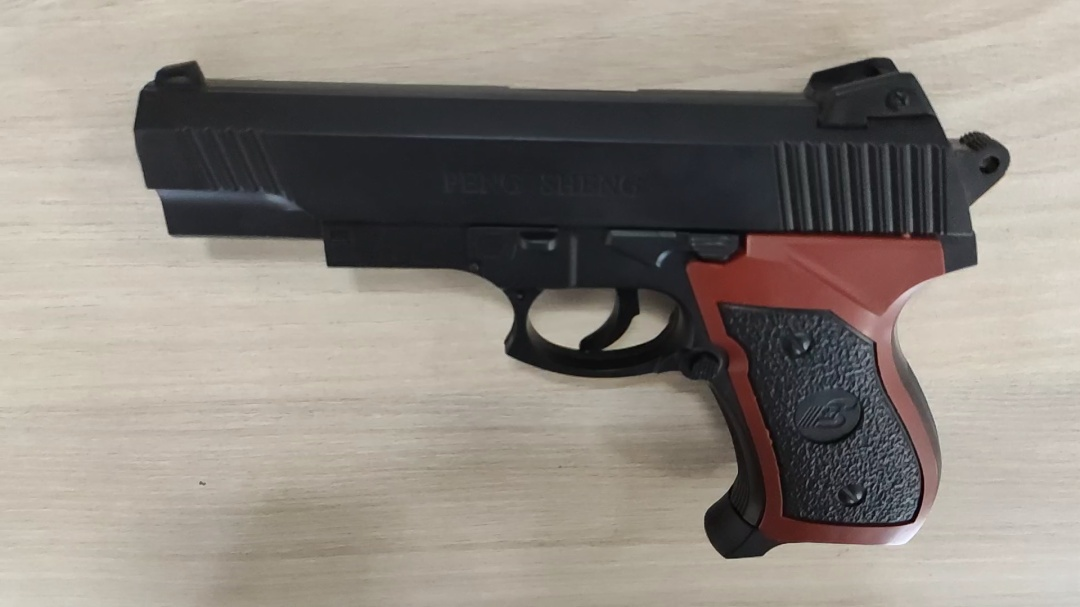gun: (395, 229, 484, 295)
